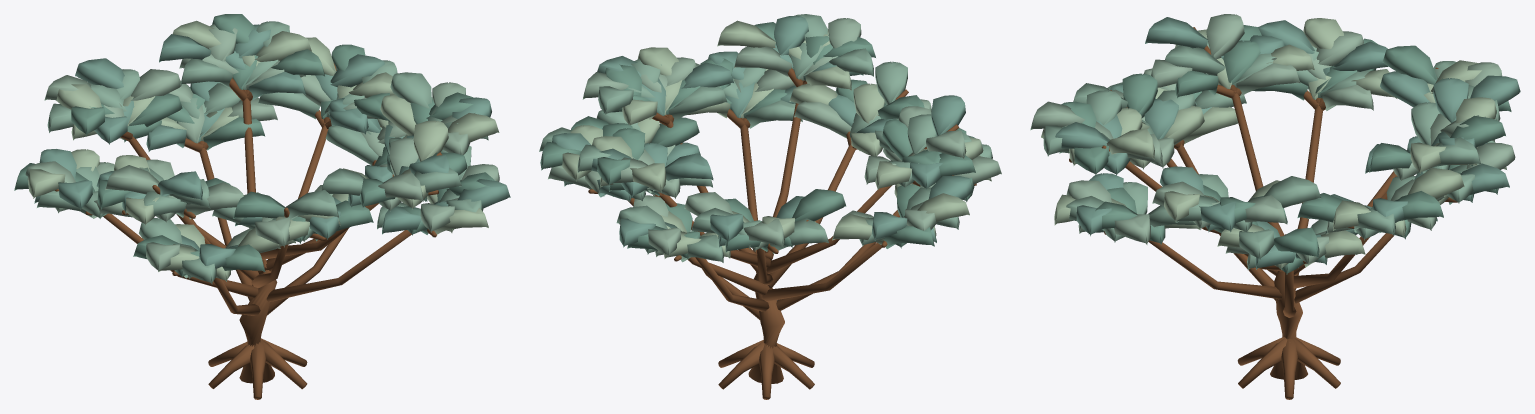
File: hero-hebe.glb
3 renders of one model, left to right at view 1: azimuth 30°, elevation 25°; view 2: azimuth 150°, elevation 25°; view 3: azimuth 270°, elevation 25°, orthographic. The views are drawn at different scales.
Visible parts, largest first — view 1: Tapered fluted trunk.007, Primary branch.093, Folded hebe leaf.127, Folded hebe leaf.179, Folded hebe leaf.131, Folded hebe leaf.126, Folded hebe leaf.150, Folded hebe leaf.001, Folded hebe leaf.170, Folded hebe leaf.107, Folded hebe leaf.106, Folded hebe leaf.086 (+78 smaller); view 2: Tapered fluted trunk.007, Primary branch.094, Folded hebe leaf.115, Folded hebe leaf.179, Folded hebe leaf.107, Folded hebe leaf.097, Folded hebe leaf.177, Folded hebe leaf.151, Folded hebe leaf.178, Primary branch.099, Folded hebe leaf.140, Folded hebe leaf.163 (+68 smaller); view 3: Primary branch.093, Folded hebe leaf.115, Folded hebe leaf.151, Folded hebe leaf.150, Tapered fluted trunk.007, Folded hebe leaf.113, Folded hebe leaf.106, Folded hebe leaf.087, Folded hebe leaf.131, Folded hebe leaf.163, Folded hebe leaf.156, Folded hebe leaf.149 (+65 smaller).
Part boxes in pixels (left/top/right/bottom): Tapered fluted trunk.007: left=239, top=259, right=277, bottom=383; Primary branch.093: left=266, top=230, right=411, bottom=301; Folded hebe leaf.127: left=75, top=58, right=124, bottom=88; Folded hebe leaf.179: left=413, top=120, right=448, bottom=161; Folded hebe leaf.131: left=390, top=72, right=431, bottom=108; Folded hebe leaf.126: left=130, top=69, right=181, bottom=100; Folded hebe leaf.150: left=105, top=165, right=159, bottom=194; Folded hebe leaf.001: left=325, top=125, right=378, bottom=165; Folded hebe leaf.170: left=254, top=31, right=311, bottom=61; Folded hebe leaf.107: left=285, top=190, right=338, bottom=219; Folded hebe leaf.106: left=233, top=191, right=284, bottom=218; Folded hebe leaf.086: left=330, top=54, right=384, bottom=87; Tapered fluted trunk.007: left=748, top=250, right=784, bottom=383; Primary branch.094: left=762, top=243, right=882, bottom=301; Folded hebe leaf.115: left=792, top=189, right=846, bottom=221; Folded hebe leaf.179: left=717, top=20, right=775, bottom=47; Folded hebe leaf.107: left=875, top=61, right=907, bottom=104; Folded hebe leaf.097: left=794, top=101, right=851, bottom=138; Folded hebe leaf.177: left=734, top=46, right=792, bottom=76; Folded hebe leaf.151: left=931, top=95, right=965, bottom=136; Folded hebe leaf.178: left=774, top=16, right=808, bottom=55; Primary branch.099: left=766, top=185, right=891, bottom=273; Folded hebe leaf.140: left=668, top=86, right=727, bottom=120; Folded hebe leaf.163: left=665, top=153, right=713, bottom=180; Primary branch.093: left=1148, top=240, right=1282, bottom=299; Folded hebe leaf.115: left=1382, top=45, right=1437, bottom=84; Folded hebe leaf.151: left=1145, top=17, right=1208, bottom=48; Folded hebe leaf.150: left=1206, top=14, right=1244, bottom=58; Tapered fluted trunk.007: left=1270, top=234, right=1307, bottom=379; Folded hebe leaf.113: left=1380, top=71, right=1430, bottom=107; Folded hebe leaf.106: left=1122, top=73, right=1157, bottom=118; Folded hebe leaf.087: left=1407, top=168, right=1464, bottom=199; Folded hebe leaf.131: left=1264, top=176, right=1321, bottom=208; Folded hebe leaf.163: left=1433, top=78, right=1468, bottom=122; Folded hebe leaf.156: left=1236, top=58, right=1300, bottom=96; Folded hebe leaf.149: left=1165, top=45, right=1224, bottom=75.
Size of the model in its own units: 0.2511 by 0.1607 by 0.2433.
